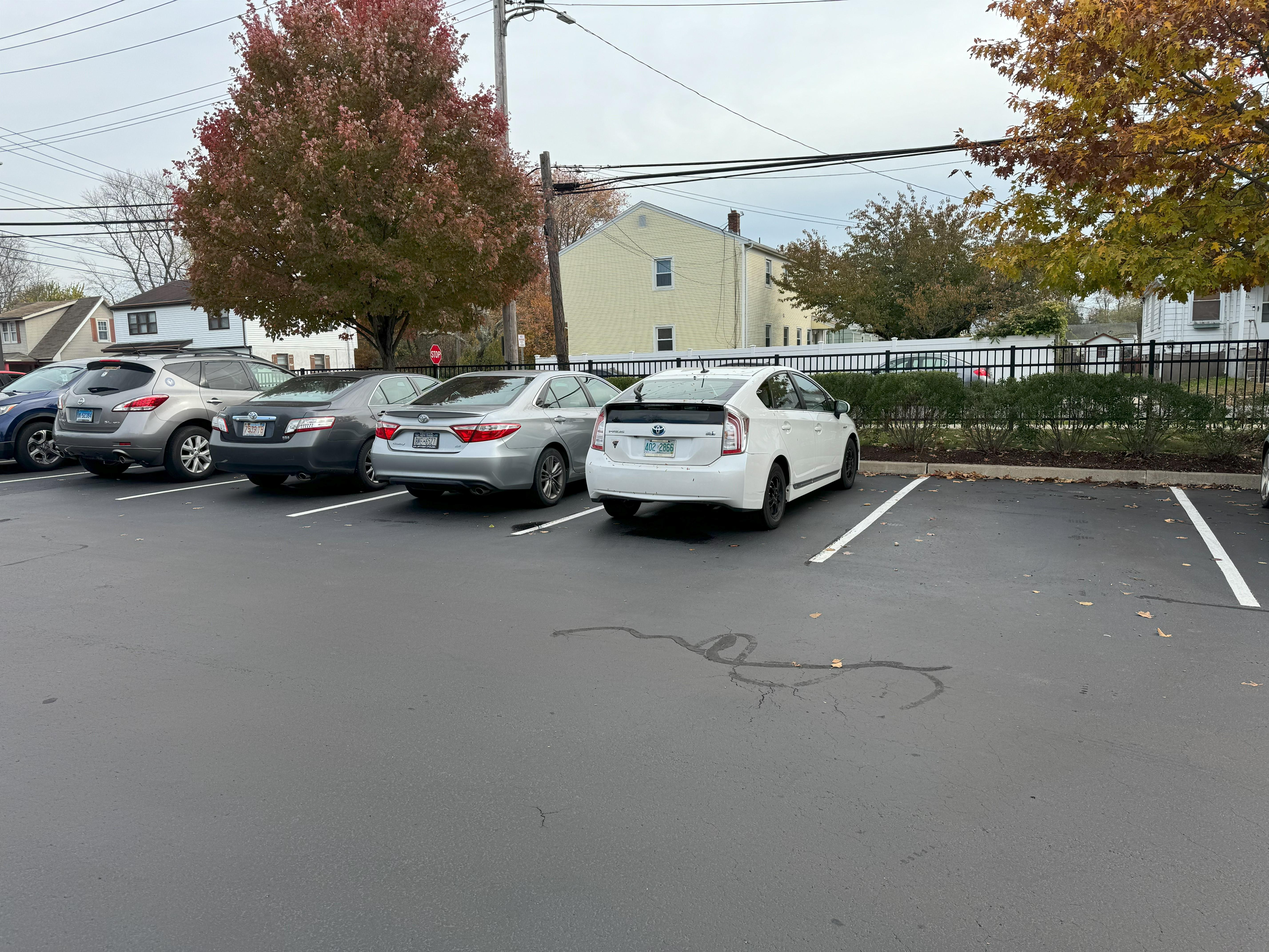empty: (898, 487, 1182, 607)
occupied: (616, 372, 862, 536), (34, 345, 221, 499), (414, 363, 597, 517), (238, 356, 397, 506)
